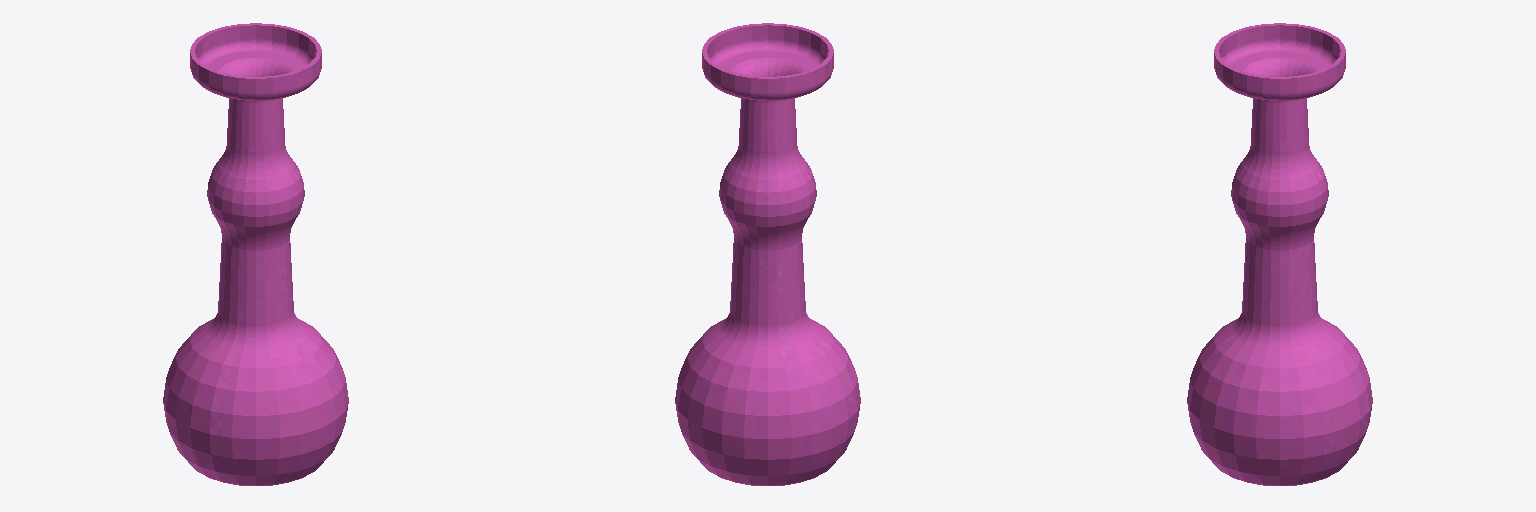
3 renders of one model, left to right at view 1: azimuth 30°, elevation 25°; view 2: azimuth 150°, elevation 25°; view 3: azimuth 270°, elevation 25°, orthographic.
Visible parts, largest first — view 1: mesh1_mesh1-geometry; view 2: mesh1_mesh1-geometry; view 3: mesh1_mesh1-geometry.
Boxes of the visible parts, x1,y1,x2,y2 form: mesh1_mesh1-geometry: [163, 23, 348, 485]; mesh1_mesh1-geometry: [675, 23, 860, 485]; mesh1_mesh1-geometry: [1187, 23, 1372, 485].
Bounding box in the file's own units: 0.3556 × 0.8643 × 0.3556.
1 materials, 1 textured.